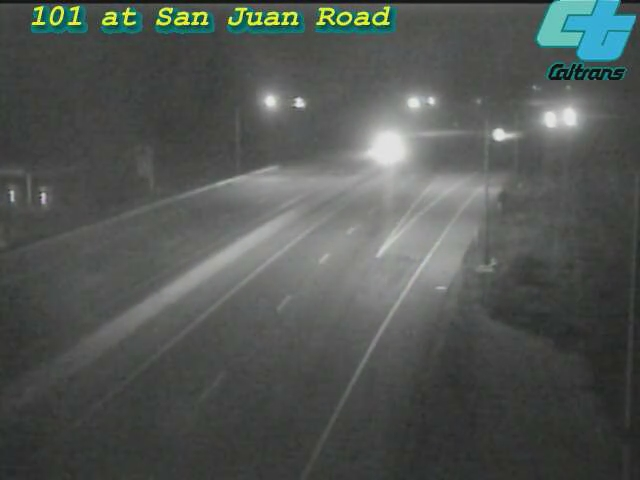vehicle: (361, 122, 411, 172), (474, 110, 524, 160), (527, 94, 577, 144), (542, 93, 592, 143)
